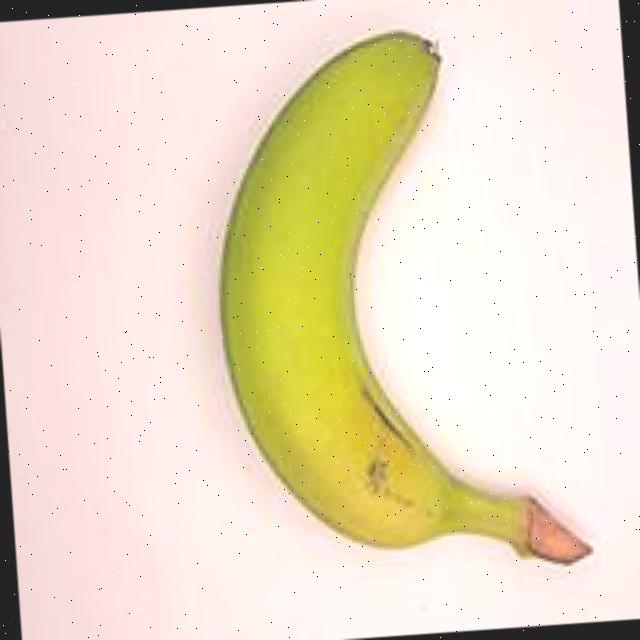Unripe: (182, 6, 622, 601)
